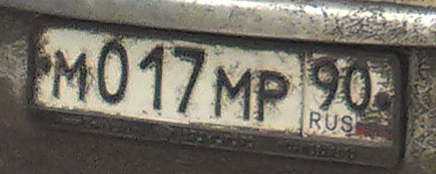character: (90, 36, 134, 109), (169, 41, 209, 119), (133, 38, 170, 114), (48, 47, 92, 107), (210, 67, 253, 125), (253, 66, 293, 127), (343, 58, 377, 118), (310, 54, 341, 114)
